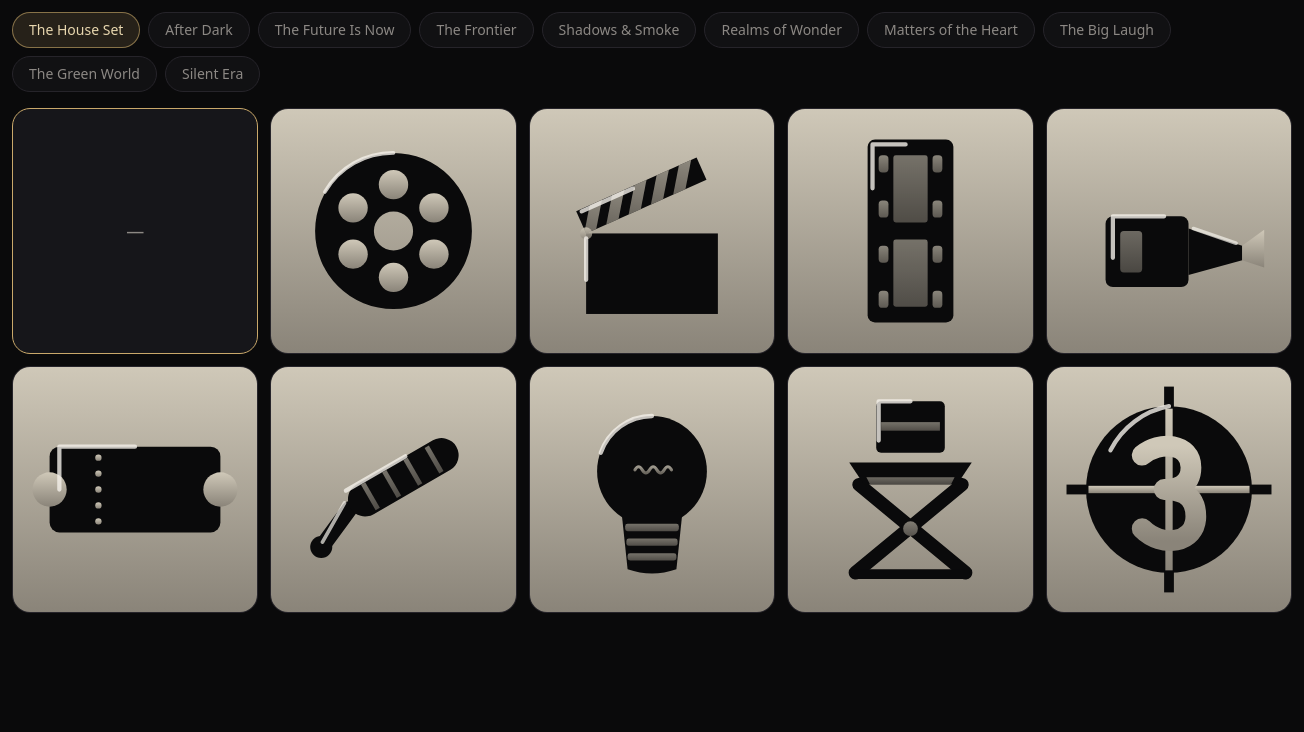
it: AvatarPicker › switches collections and shows that collection instead
Click the button "After Dark": (199, 30) [148,12,250,48]
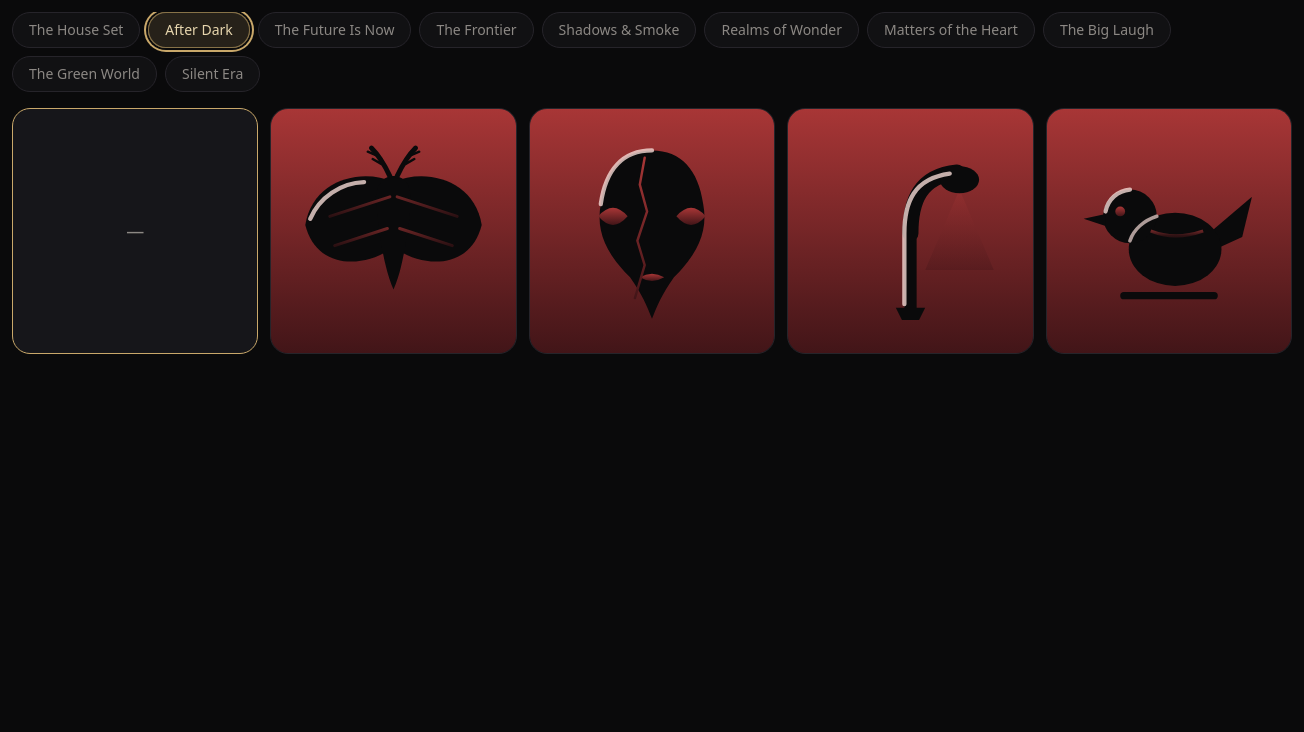
Now the radio button named "Moth" is shown, box [270,108,517,354]
